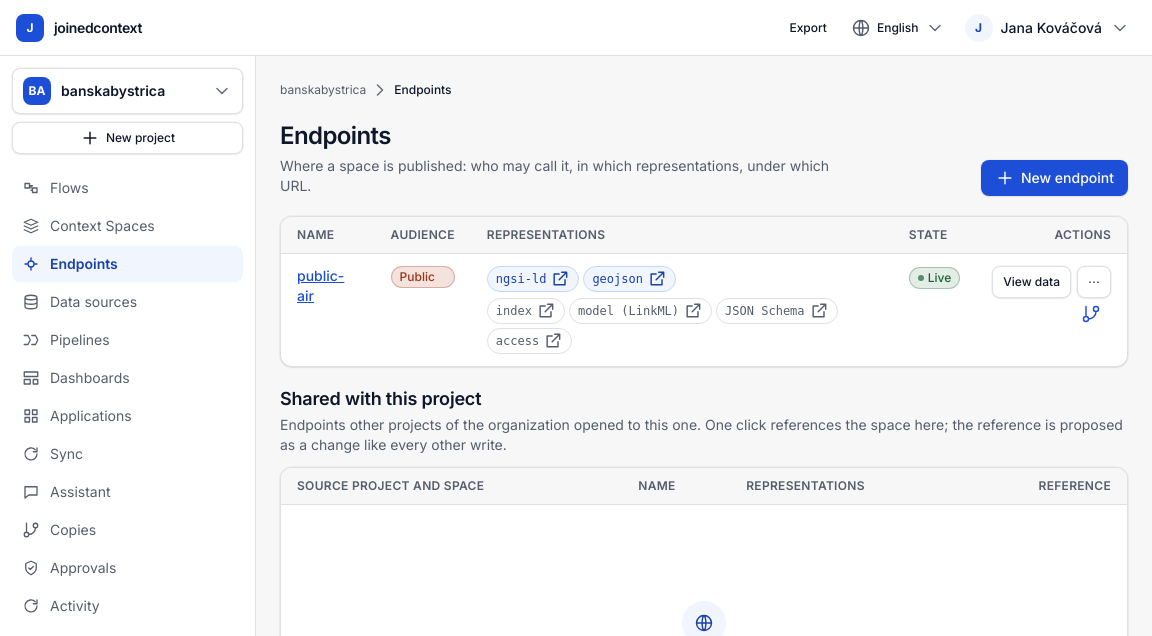
it: endpoints view › keeps one control in the open and the rest in the row's menu (T-2287)
This screenshot has width=1152, height=636.
Click the button named "More actions".
click(1094, 282)  # box [1077,266,1111,298]
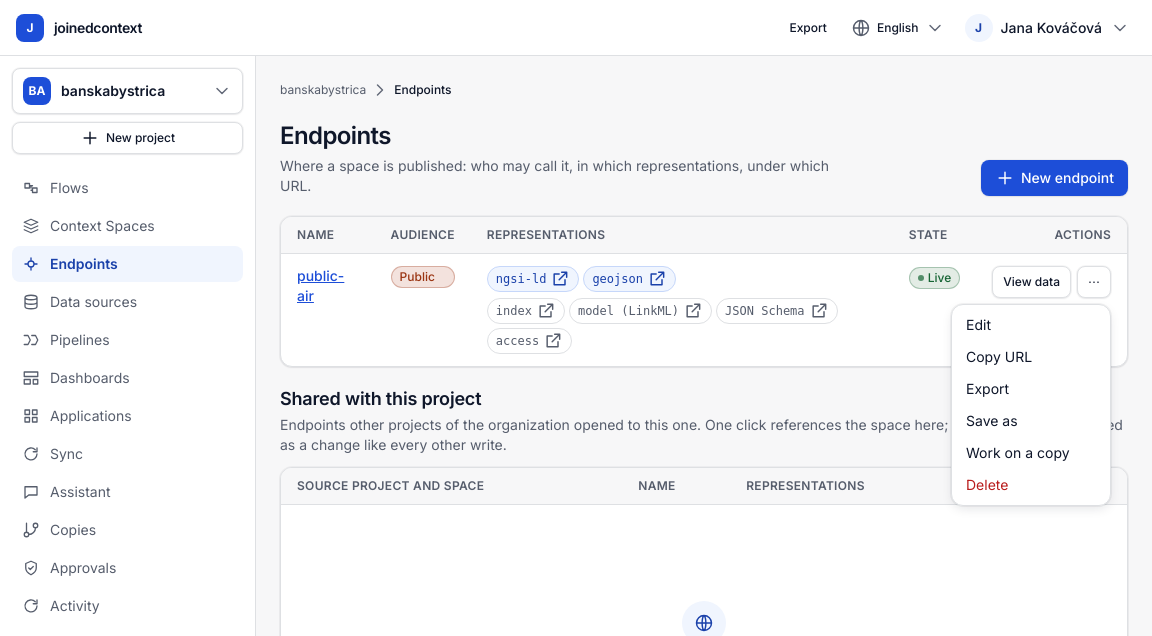
Check: the menu items read "Edit", "Copy URL", "Export", "Save as", "Work on a copy", "Delete", in this order, box [966,316,991,333]; [966,348,1032,365]; [966,380,1009,397]; [966,412,1018,429]; [966,444,1070,461]; [966,476,1008,493]
Note: Escape closes it and the focus comes back to the button that opened it.
Press Escape
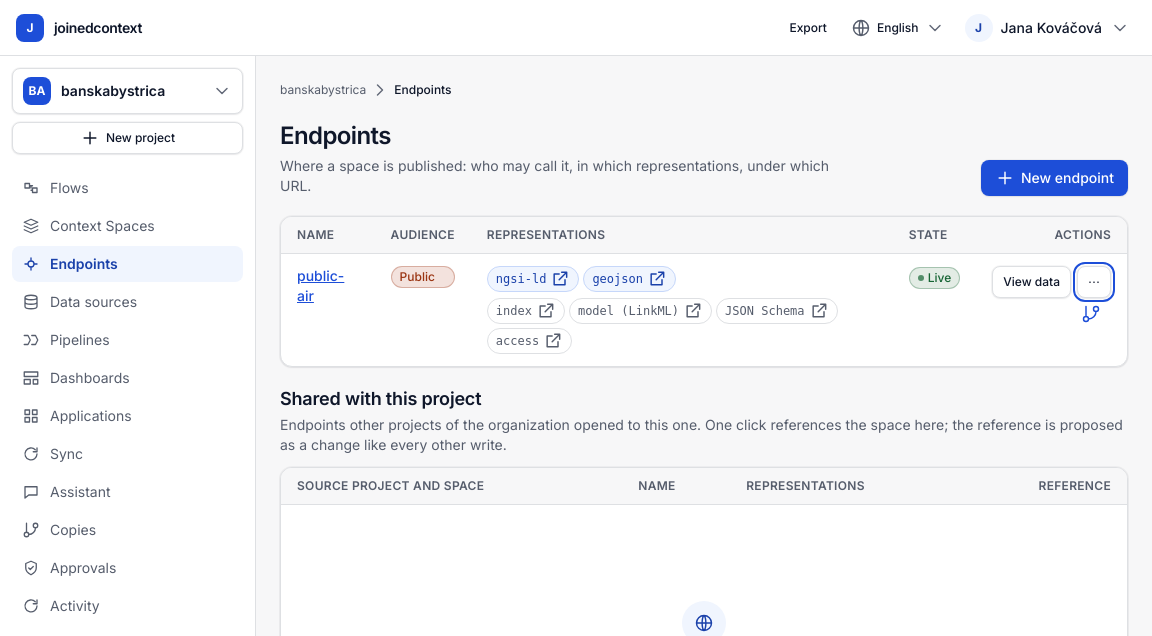
Check: the menu is gone
